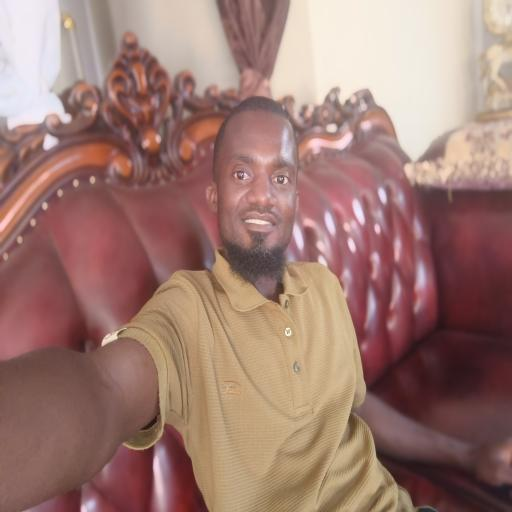MATTHIEU: (212, 91, 304, 287)
